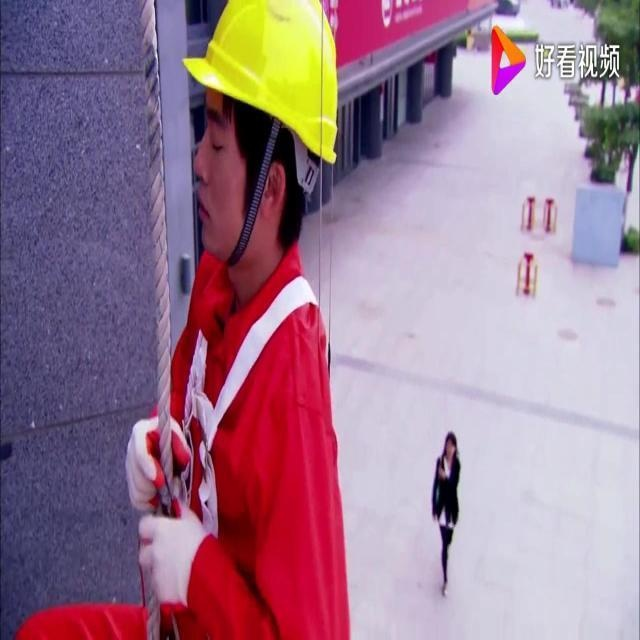Arnes_seguridad: (174, 249, 330, 570)
